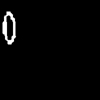chain: (3, 12, 15, 43)
